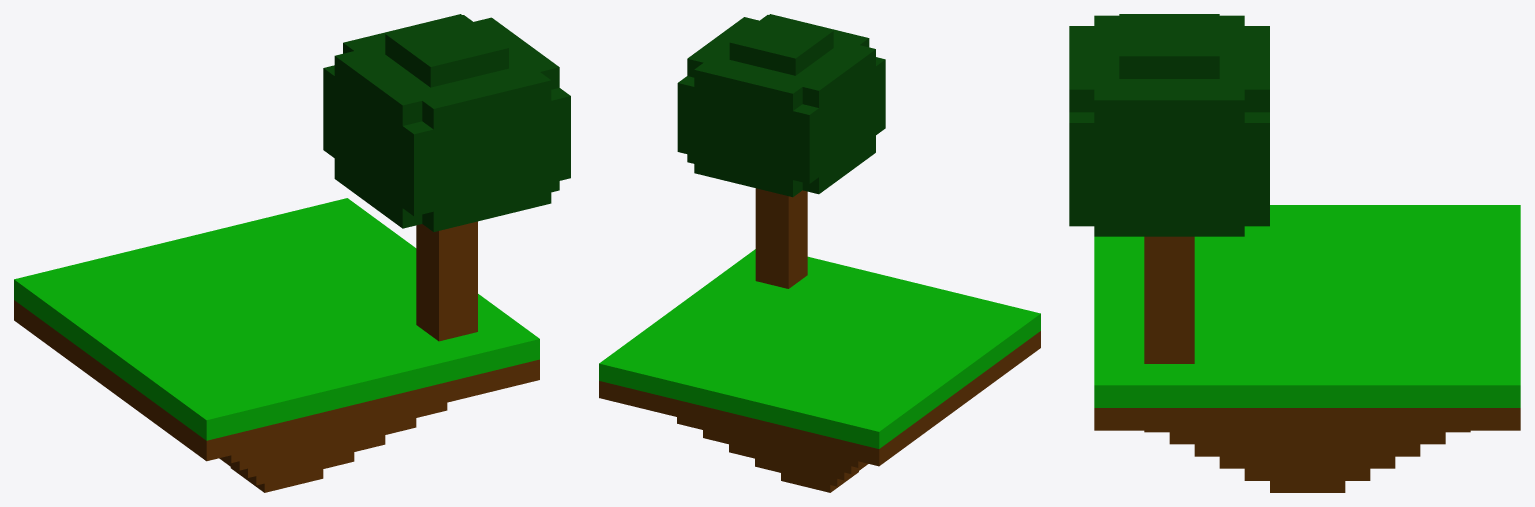
The model's file is Tree.obj.
3 views of the same model, side by side, from view 1: azimuth 30°, elevation 25°; view 2: azimuth 150°, elevation 25°; view 3: azimuth 270°, elevation 25° (orthographic). The views are drawn at different scales.
Parts seen in each view (by area): view 1: Tree; view 2: Tree; view 3: Tree.
Part boxes in pixels (x1=…): Tree: x1=14, y1=14, x2=570, y2=492; Tree: x1=599, y1=14, x2=1040, y2=492; Tree: x1=1069, y1=14, x2=1520, y2=492.
Size of the model in its own units: 18 by 22 by 18.
